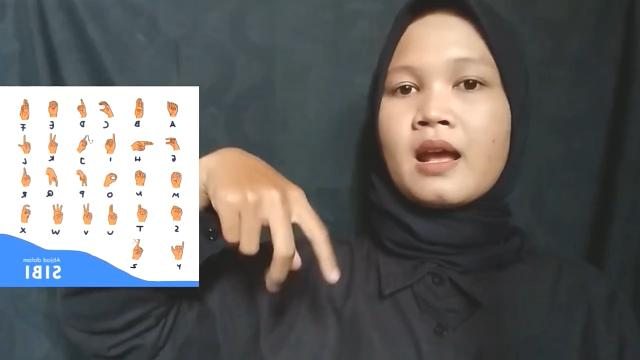Q: (202, 143, 346, 295)
